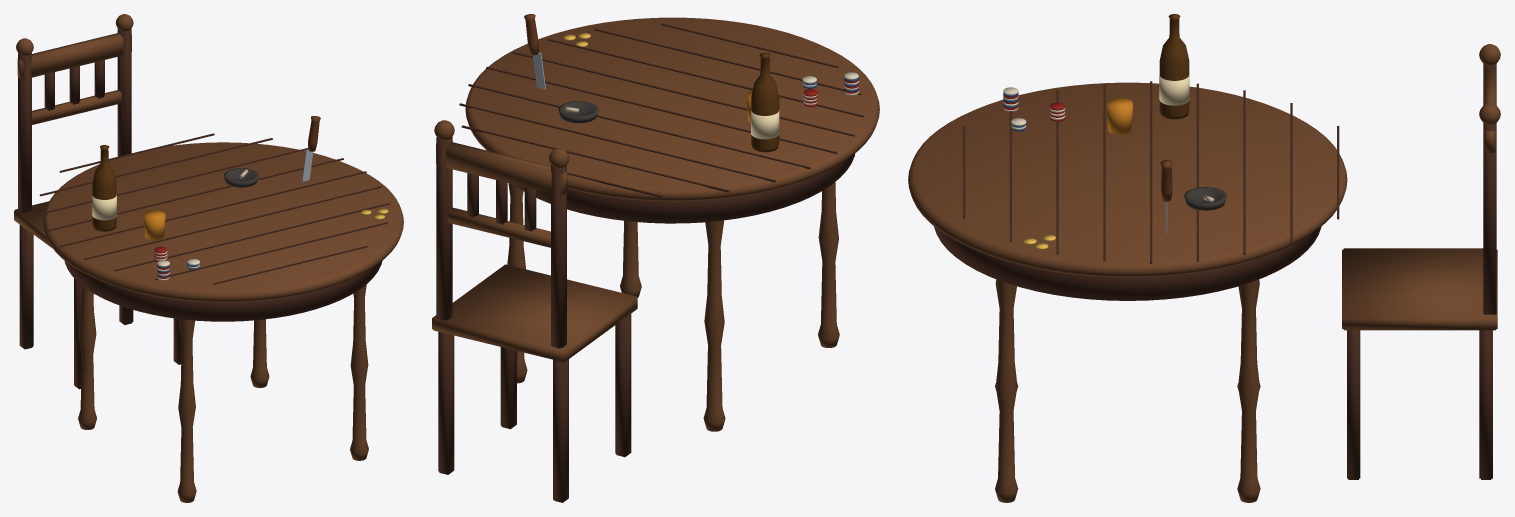
File: table_set.glb
The picture shows the model from 3 angles, left to right: view 1: azimuth 30°, elevation 25°; view 2: azimuth 150°, elevation 25°; view 3: azimuth 270°, elevation 25°; orthographic projection. The views are drawn at different scales.
Visible parts, largest first — view 1: Prop_TableTop, Prop_Apron, Prop_Leg2, Prop_Leg3, Prop_ChairRail, Prop_ChairPost-1, Prop_Leg1, Prop_ChairLeg-11, Prop_ChairPost1, Prop_ChairRail2, Prop_Bottle, Prop_Leg0 (+12 smaller); view 2: Prop_TableTop, Prop_ChairSeat, Prop_Apron, Prop_Leg1, Prop_ChairRail, Prop_ChairPost1, Prop_ChairPost-1, Prop_Leg2, Prop_ChairLeg11, Prop_ChairLeg-1-1, Prop_ChairLeg-11, Prop_ChairRail2 (+16 smaller); view 3: Prop_TableTop, Prop_ChairSeat, Prop_Apron, Prop_Leg0, Prop_Leg3, Prop_ChairPost1, Prop_ChairLeg1-1, Prop_ChairLeg11, Prop_Bottle, Prop_Glass, Prop_Ashtray, Prop_Label (+1 smaller).
Boxes of the visible parts, x1,y1,x2,y2 form: Prop_TableTop: [43, 142, 403, 302]; Prop_Apron: [64, 260, 382, 321]; Prop_Leg2: [177, 319, 196, 502]; Prop_Leg3: [350, 284, 368, 460]; Prop_ChairRail: [17, 33, 131, 79]; Prop_ChairPost-1: [18, 53, 31, 212]; Prop_Leg1: [78, 285, 96, 429]; Prop_ChairLeg-11: [19, 225, 33, 349]; Prop_ChairPost1: [117, 28, 131, 156]; Prop_ChairRail2: [32, 90, 121, 124]; Prop_Bottle: [92, 145, 116, 231]; Prop_Leg0: [250, 319, 269, 387]; Prop_TableTop: [465, 17, 879, 201]; Prop_ChairSeat: [432, 264, 637, 362]; Prop_Apron: [513, 153, 855, 223]; Prop_Leg1: [703, 220, 725, 431]; Prop_ChairRail: [436, 142, 567, 195]; Prop_ChairPost1: [436, 136, 452, 320]; Prop_ChairPost-1: [551, 165, 566, 348]; Prop_Leg2: [818, 182, 839, 347]; Prop_ChairLeg11: [438, 331, 454, 474]; Prop_ChairLeg-1-1: [615, 314, 631, 456]; Prop_ChairLeg-11: [553, 359, 568, 502]; Prop_ChairRail2: [447, 207, 550, 247]; Prop_TableTop: [908, 82, 1347, 277]; Prop_ChairSeat: [1342, 248, 1497, 330]; Prop_Apron: [934, 226, 1321, 300]; Prop_Leg0: [1237, 279, 1260, 502]; Prop_Leg3: [995, 279, 1018, 502]; Prop_ChairPost1: [1483, 123, 1496, 314]; Prop_ChairLeg1-1: [1347, 330, 1360, 479]; Prop_ChairLeg11: [1479, 330, 1492, 479]; Prop_Bottle: [1159, 14, 1189, 119]; Prop_Glass: [1106, 98, 1133, 134]; Prop_Ashtray: [1184, 187, 1226, 210]; Prop_Label: [1159, 75, 1189, 105].
Size of the model in its own units: 1.13 by 1.06 by 1.52.
